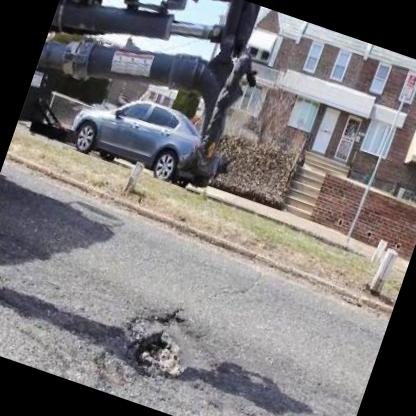pothole: (108, 294, 211, 394)
